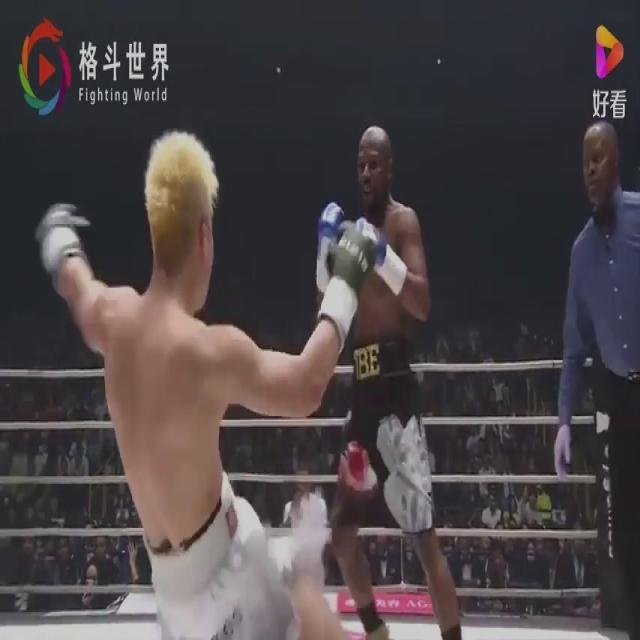fight: (34, 112, 446, 639)
non-fight: (544, 108, 639, 636)
